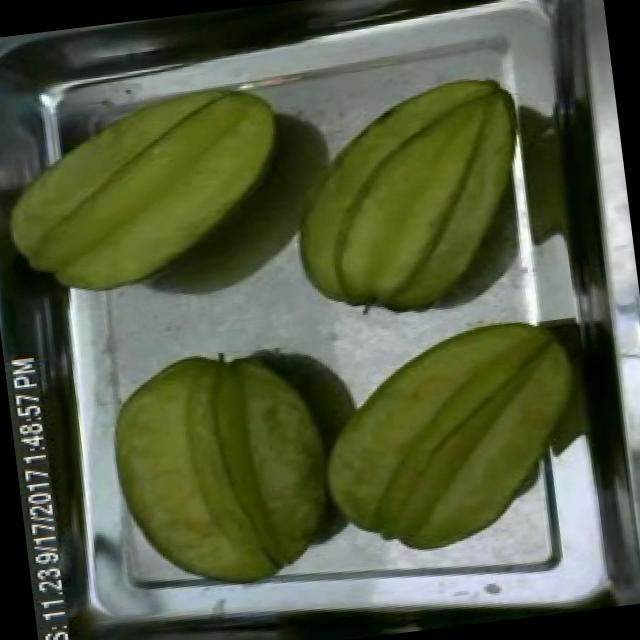fruit: (297, 302, 607, 576), (0, 70, 309, 314), (93, 332, 354, 608), (284, 58, 543, 334)
